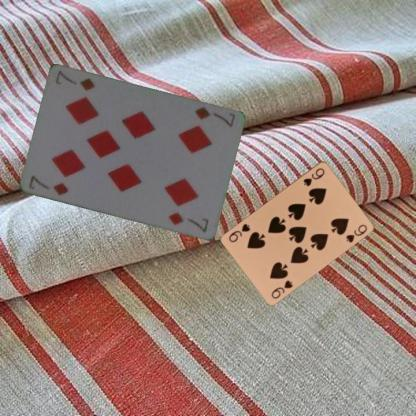7d: (191, 104, 236, 129), (26, 173, 69, 197)
9s: (269, 277, 294, 300), (300, 165, 326, 187)
